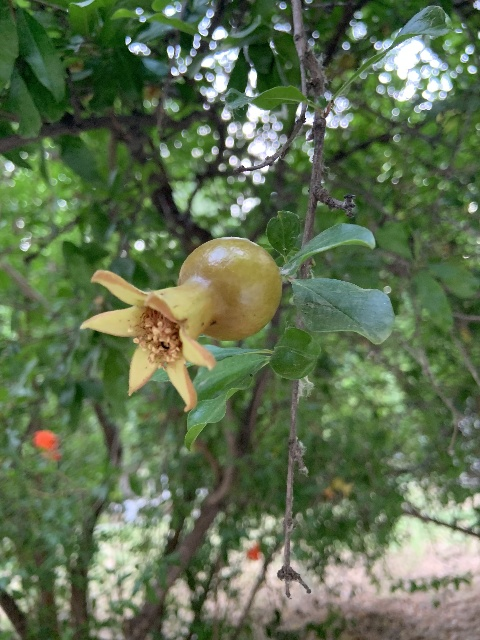mid-growth: (81, 235, 284, 413)
